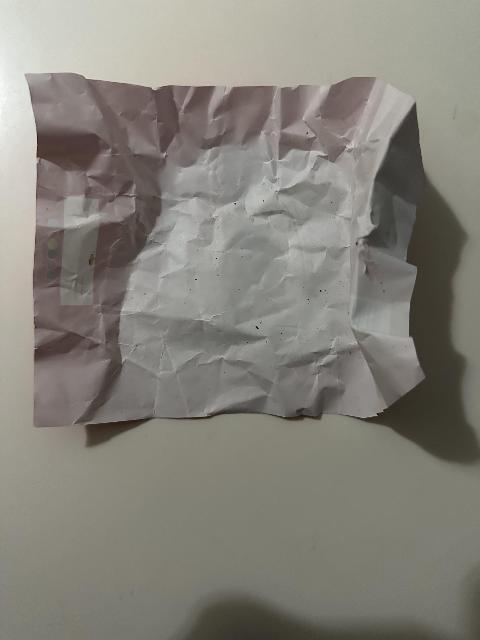Kagit: (25, 70, 429, 426)
